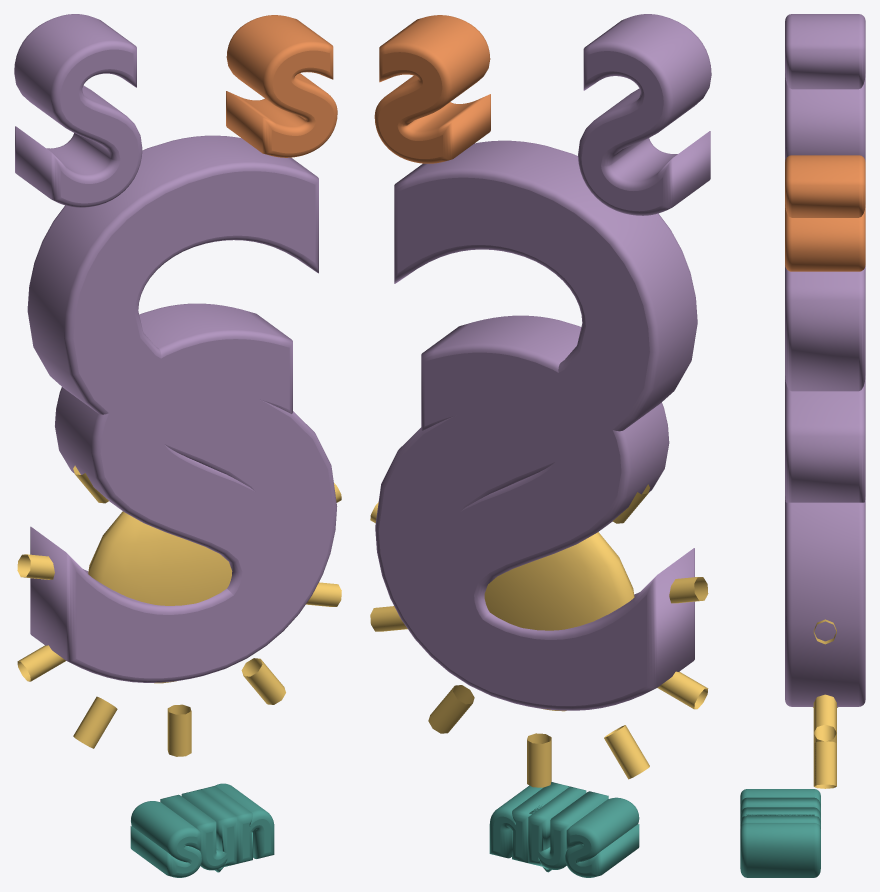
File: letter-s.glb
The picture shows the model from 3 angles, left to right: view 1: azimuth 30°, elevation 25°; view 2: azimuth 150°, elevation 25°; view 3: azimuth 270°, elevation 25°; orthographic projection. The views are drawn at different scales.
Parts seen in each view (by area): view 1: letter solid, letter solid.001, uppercase solid, lowercase solid, example word, sun, sun ray.005, sun ray.006, sun ray.004, sun ray.007, sun ray.008, sun ray.003; view 2: letter solid, letter solid.001, uppercase solid, lowercase solid, example word, sun, sun ray.005, sun ray.006, sun ray.004, sun ray.007, sun ray.008, sun ray.003; view 3: letter solid, uppercase solid, lowercase solid, letter solid.001, example word, sun ray.004, sun ray.003.
Boxes of the visible parts, <box> form: letter solid: <box>27,135,337,682</box>; letter solid.001: <box>55,303,303,681</box>; uppercase solid: <box>14,14,142,207</box>; lowercase solid: <box>226,15,337,157</box>; example word: <box>130,783,274,877</box>; sun: <box>88,511,232,683</box>; sun ray.005: <box>167,704,191,756</box>; sun ray.006: <box>73,696,117,748</box>; sun ray.004: <box>241,658,285,704</box>; sun ray.007: <box>17,645,65,681</box>; sun ray.008: <box>17,554,54,579</box>; sun ray.003: <box>306,582,341,606</box>; letter solid: <box>375,140,697,710</box>; letter solid.001: <box>410,315,669,709</box>; uppercase solid: <box>578,14,711,215</box>; lowercase solid: <box>374,15,490,163</box>; example word: <box>489,782,639,877</box>; sun: <box>484,532,634,711</box>; sun ray.005: <box>527,733,551,787</box>; sun ray.006: <box>604,725,649,779</box>; sun ray.004: <box>428,685,474,733</box>; sun ray.007: <box>657,671,708,709</box>; sun ray.008: <box>669,577,708,603</box>; sun ray.003: <box>370,606,407,631</box>; letter solid: <box>785,265,865,706</box>; uppercase solid: <box>785,14,865,161</box>; lowercase solid: <box>785,155,865,271</box>; letter solid.001: <box>785,376,865,502</box>; example word: <box>740,789,820,877</box>; sun ray.004: <box>813,741,836,788</box>; sun ray.003: <box>813,694,836,741</box>.
Size of the model in its own units: 0.7774 by 1.96 by 0.28.
